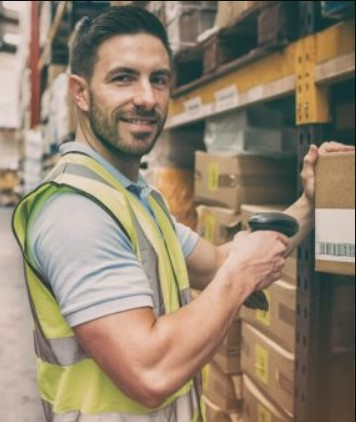worker: (12, 7, 195, 413)
